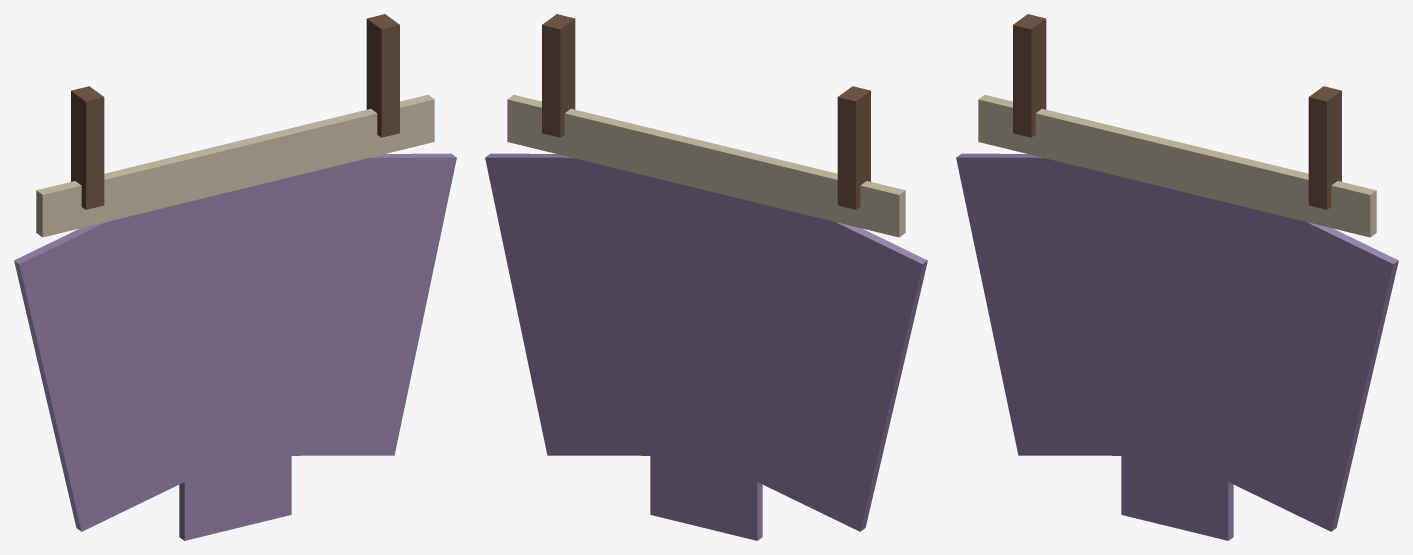
File: knickers-line-mint.glb
3 renders of one model, left to right at view 1: azimuth 30°, elevation 25°; view 2: azimuth 150°, elevation 25°; view 3: azimuth 330°, elevation 25°, orthographic.
Visible parts, largest first — view 1: accent-lilac, paper, wood; view 2: accent-lilac, paper, wood; view 3: accent-lilac, paper, wood.
Part boxes in pixels (x1,y1,x2,y2): accent-lilac: [14, 153, 456, 540]; paper: [36, 95, 434, 237]; wood: [71, 14, 399, 209]; accent-lilac: [485, 153, 927, 540]; paper: [507, 95, 905, 237]; wood: [542, 14, 870, 209]; accent-lilac: [956, 153, 1398, 540]; paper: [978, 95, 1376, 237]; wood: [1013, 14, 1341, 209].
Bounding box in the file's own units: 0.2367 × 0.242 × 0.014.
